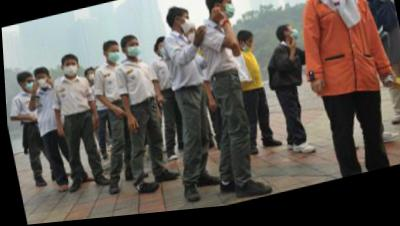OK: (220, 1, 237, 25), (179, 16, 193, 37), (126, 43, 141, 62), (107, 48, 122, 67), (34, 74, 50, 91), (63, 62, 78, 80), (187, 31, 200, 48), (288, 30, 300, 48), (22, 80, 35, 95), (158, 46, 170, 61), (376, 1, 391, 12), (88, 72, 97, 84)
WRONG: (241, 43, 254, 58)
